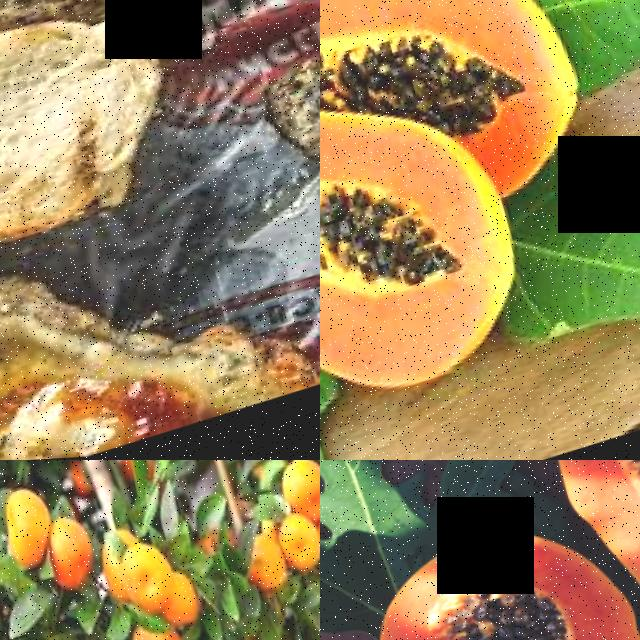orange: (109, 536, 183, 629), (37, 512, 101, 596), (0, 483, 56, 575), (272, 460, 320, 531), (273, 511, 320, 578), (243, 533, 289, 600), (120, 623, 191, 640)
pawpaw: (320, 99, 510, 445), (320, 0, 571, 202), (351, 491, 640, 640), (561, 460, 640, 640)
